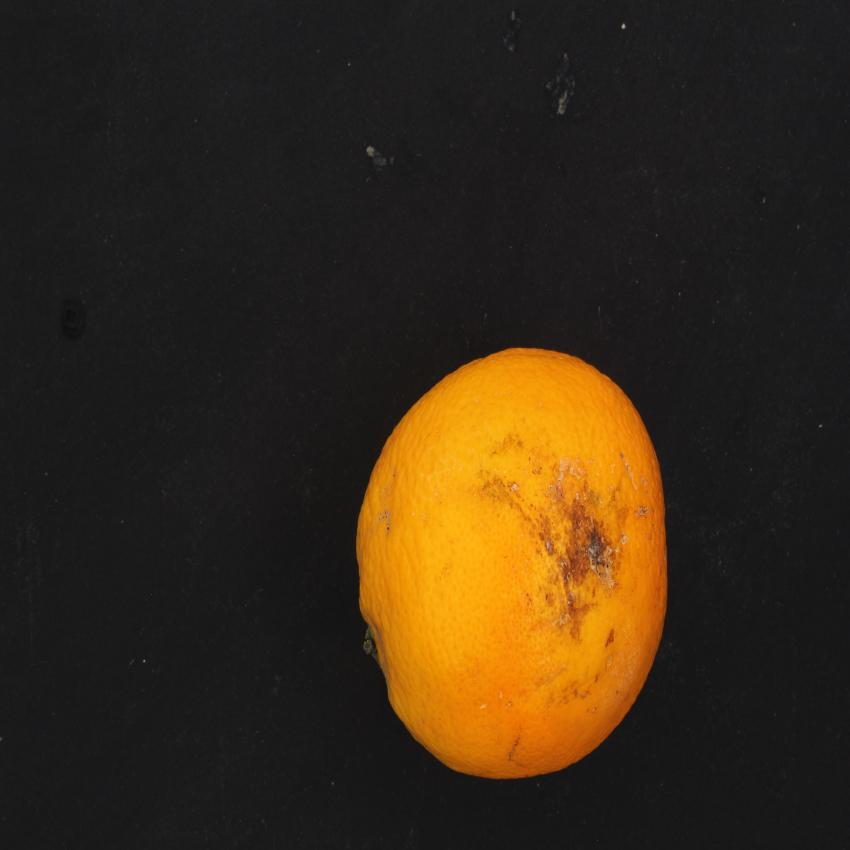Mal estado: (348, 338, 690, 790)
